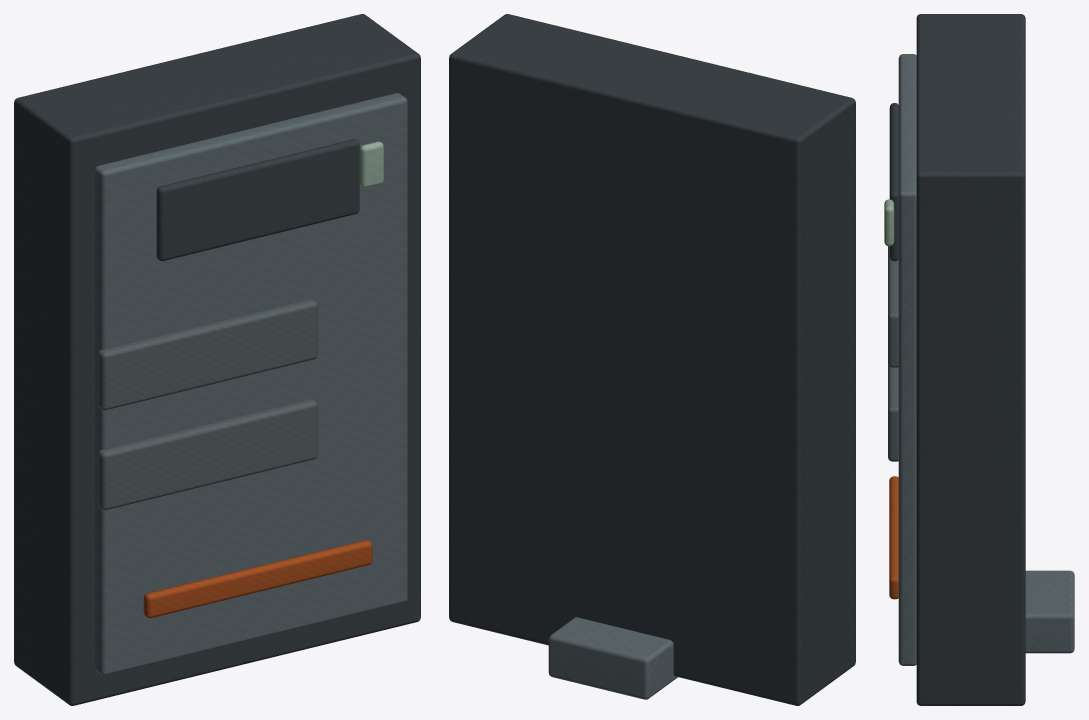
Rendered from WallPatchPanel.fbx.
3 views of the same model, side by side, from view 1: azimuth 30°, elevation 25°; view 2: azimuth 150°, elevation 25°; view 3: azimuth 270°, elevation 25° (orthographic). The views are drawn at different scales.
Parts seen in each view (by area): view 1: WallPatchPanel_Mesh; view 2: WallPatchPanel_Mesh; view 3: WallPatchPanel_Mesh.
Part boxes in pixels (x1=…): WallPatchPanel_Mesh: x1=14, y1=14, x2=420, y2=705; WallPatchPanel_Mesh: x1=449, y1=14, x2=855, y2=705; WallPatchPanel_Mesh: x1=884, y1=14, x2=1074, y2=705.
Bounding box in the file's own units: 70 × 109 × 34.9.
